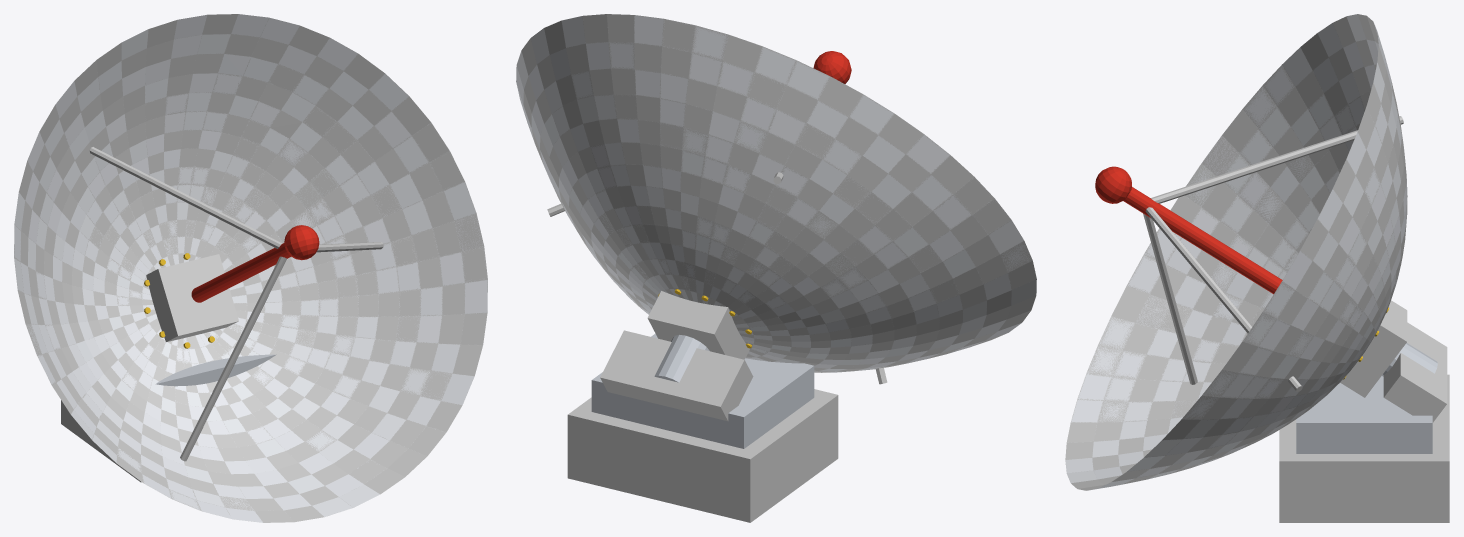
File: guidance_radar.obj
The picture shows the model from 3 angles, left to right: view 1: azimuth 30°, elevation 25°; view 2: azimuth 150°, elevation 25°; view 3: azimuth 270°, elevation 25°; orthographic projection. The views are drawn at different scales.
Parts seen in each view (by area): view 1: guidance_radar; view 2: guidance_radar; view 3: guidance_radar.
Boxes of the visible parts, x1,y1,x2,y2 form: guidance_radar: (14,14,487,522); guidance_radar: (516,14,1036,522); guidance_radar: (1065,14,1449,522).
Bounding box in the file's own units: 0.6512 × 0.563 × 0.4509.
